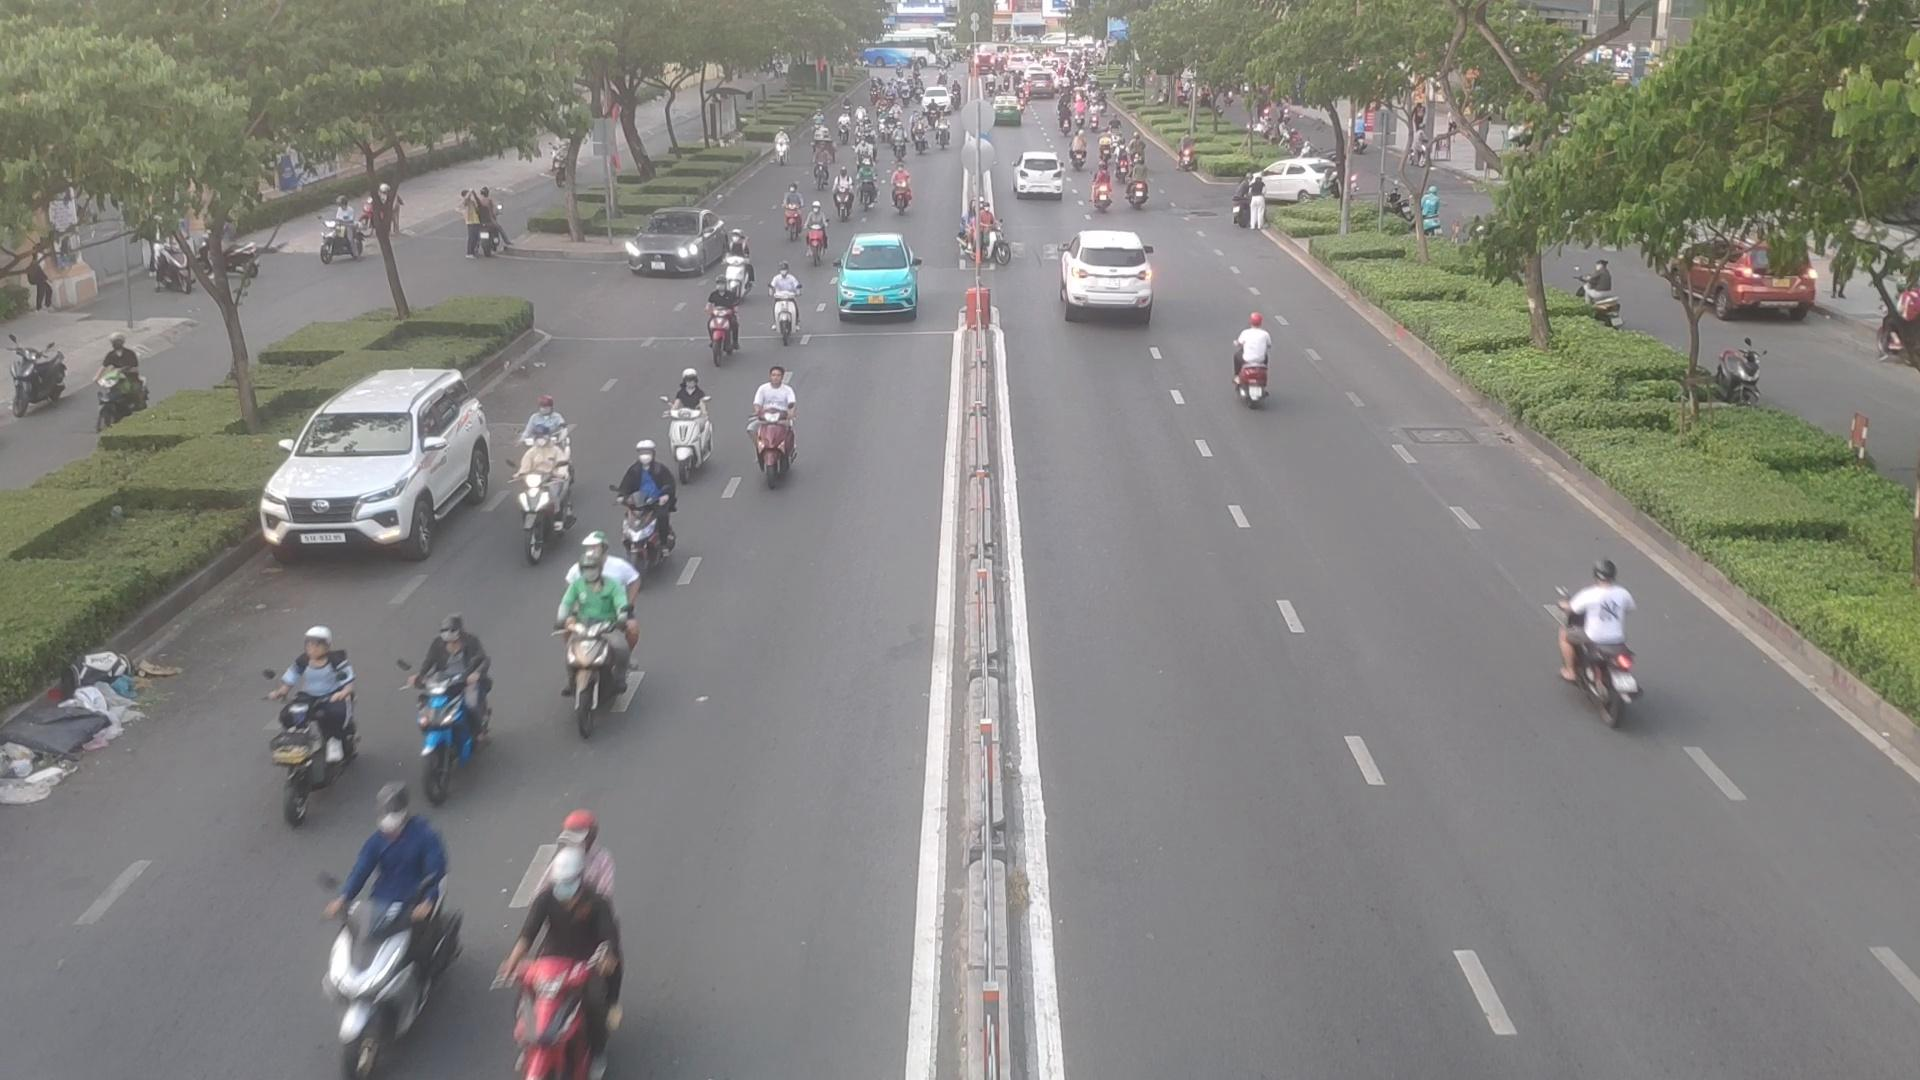car: (260, 369, 498, 566), (1056, 229, 1154, 320), (832, 235, 928, 320), (626, 210, 740, 280), (1245, 160, 1338, 204), (1014, 153, 1068, 198)
motorbike: (520, 828, 650, 1048), (326, 800, 433, 1033), (404, 605, 495, 804), (272, 636, 363, 808), (555, 549, 644, 709), (1560, 582, 1635, 731), (603, 444, 674, 564), (654, 377, 721, 468), (520, 438, 568, 560), (753, 386, 802, 491), (1232, 324, 1276, 405), (702, 291, 745, 361), (764, 276, 807, 342), (965, 212, 1011, 265), (720, 241, 757, 295), (777, 194, 808, 241), (1124, 161, 1151, 204), (808, 207, 829, 258), (889, 171, 911, 218), (1095, 161, 1114, 207), (833, 178, 853, 222), (773, 135, 796, 170), (857, 167, 876, 210), (1113, 142, 1130, 181), (811, 156, 828, 189), (891, 129, 907, 162), (856, 138, 869, 164)
